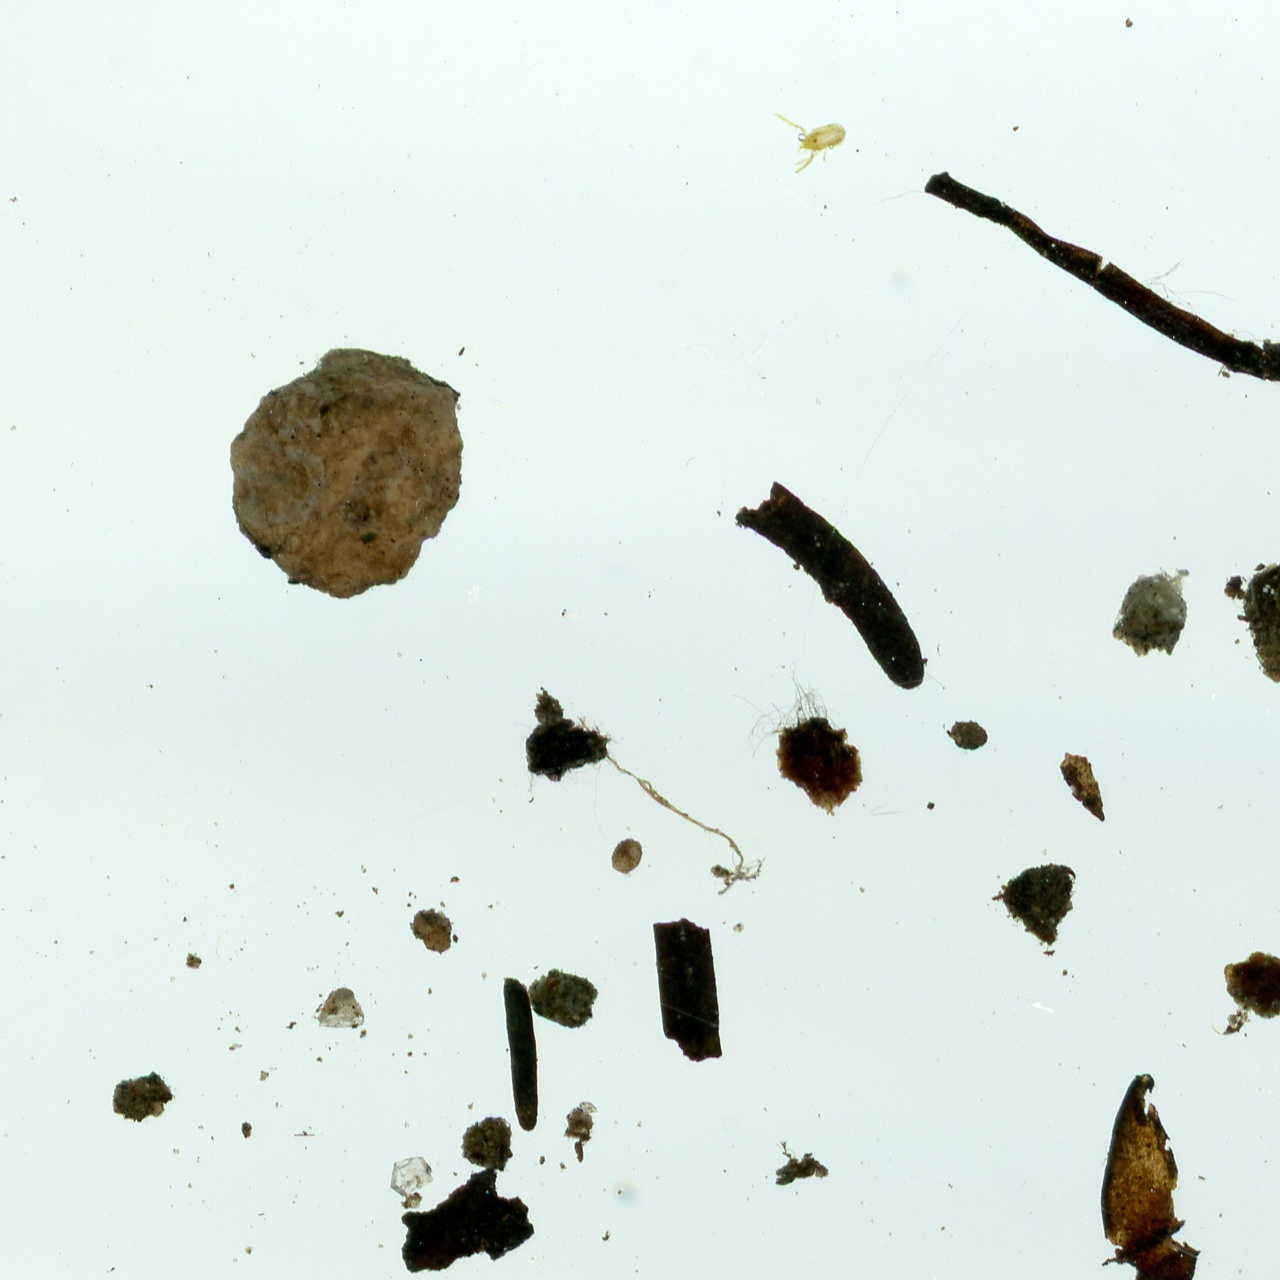arthropod: (767, 94, 860, 182)
